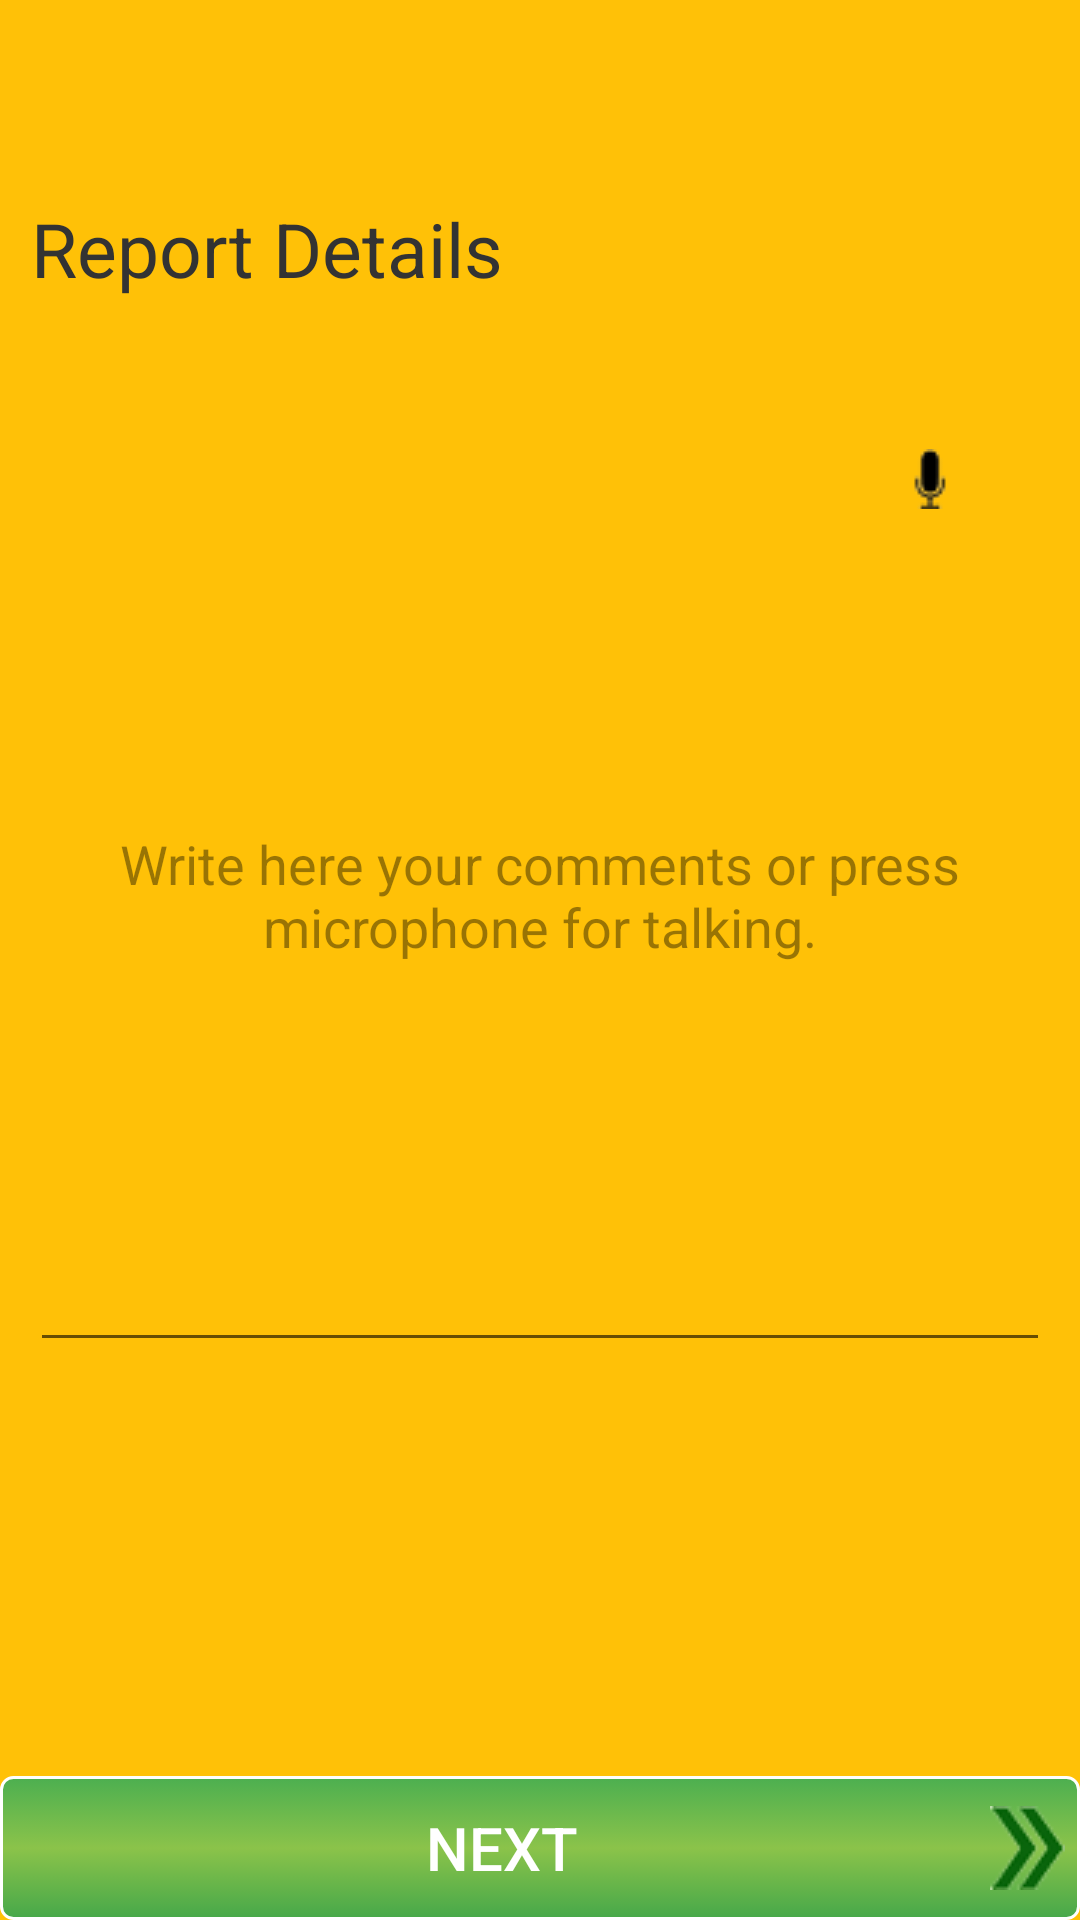

Named icons in this screenshot (1080*1920) and their bounding boxes, rect(x1, y1, x2, y2):
voice: rect(914, 449, 946, 509)
